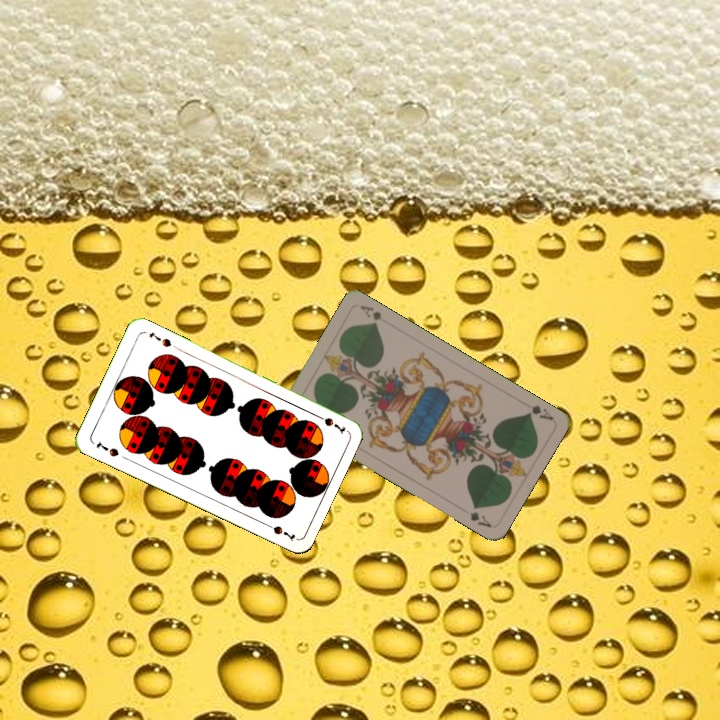GA: (523, 401, 556, 423)
S7: (310, 410, 348, 436), (92, 436, 121, 459)
